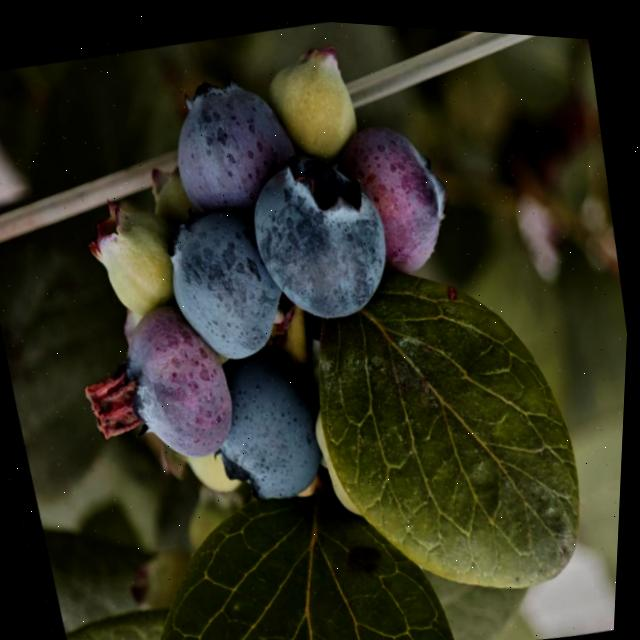RipeBlueBerry: (231, 136, 402, 332)
Semi-RipeBlueBerry: (87, 285, 243, 471)
UnripeBlueBerry: (197, 336, 329, 506)
